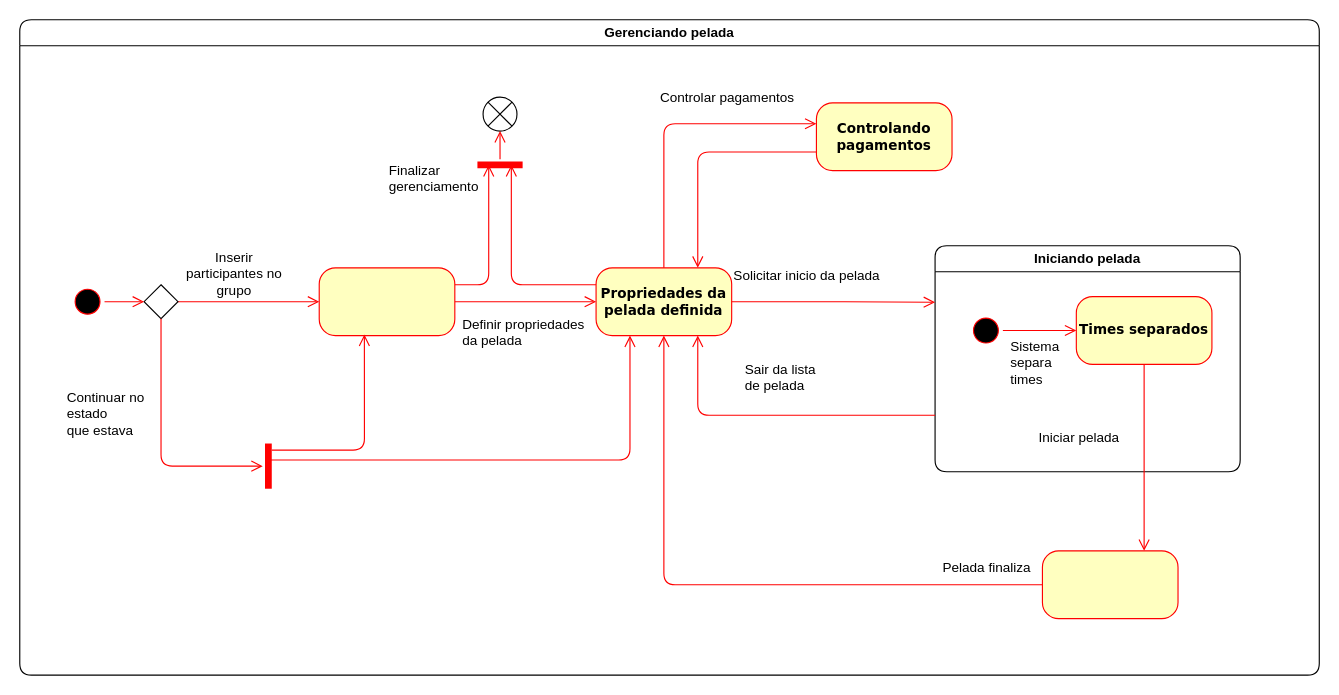
Some shapes in this 1339 by 695 pixel diagram are drawn without their labels. Here are the shapes that lost their labels. From the top down, the box of each, then its label:
(318, 267, 455, 336): Participantes inseridos
(1041, 550, 1178, 619): Pelada iniciada
